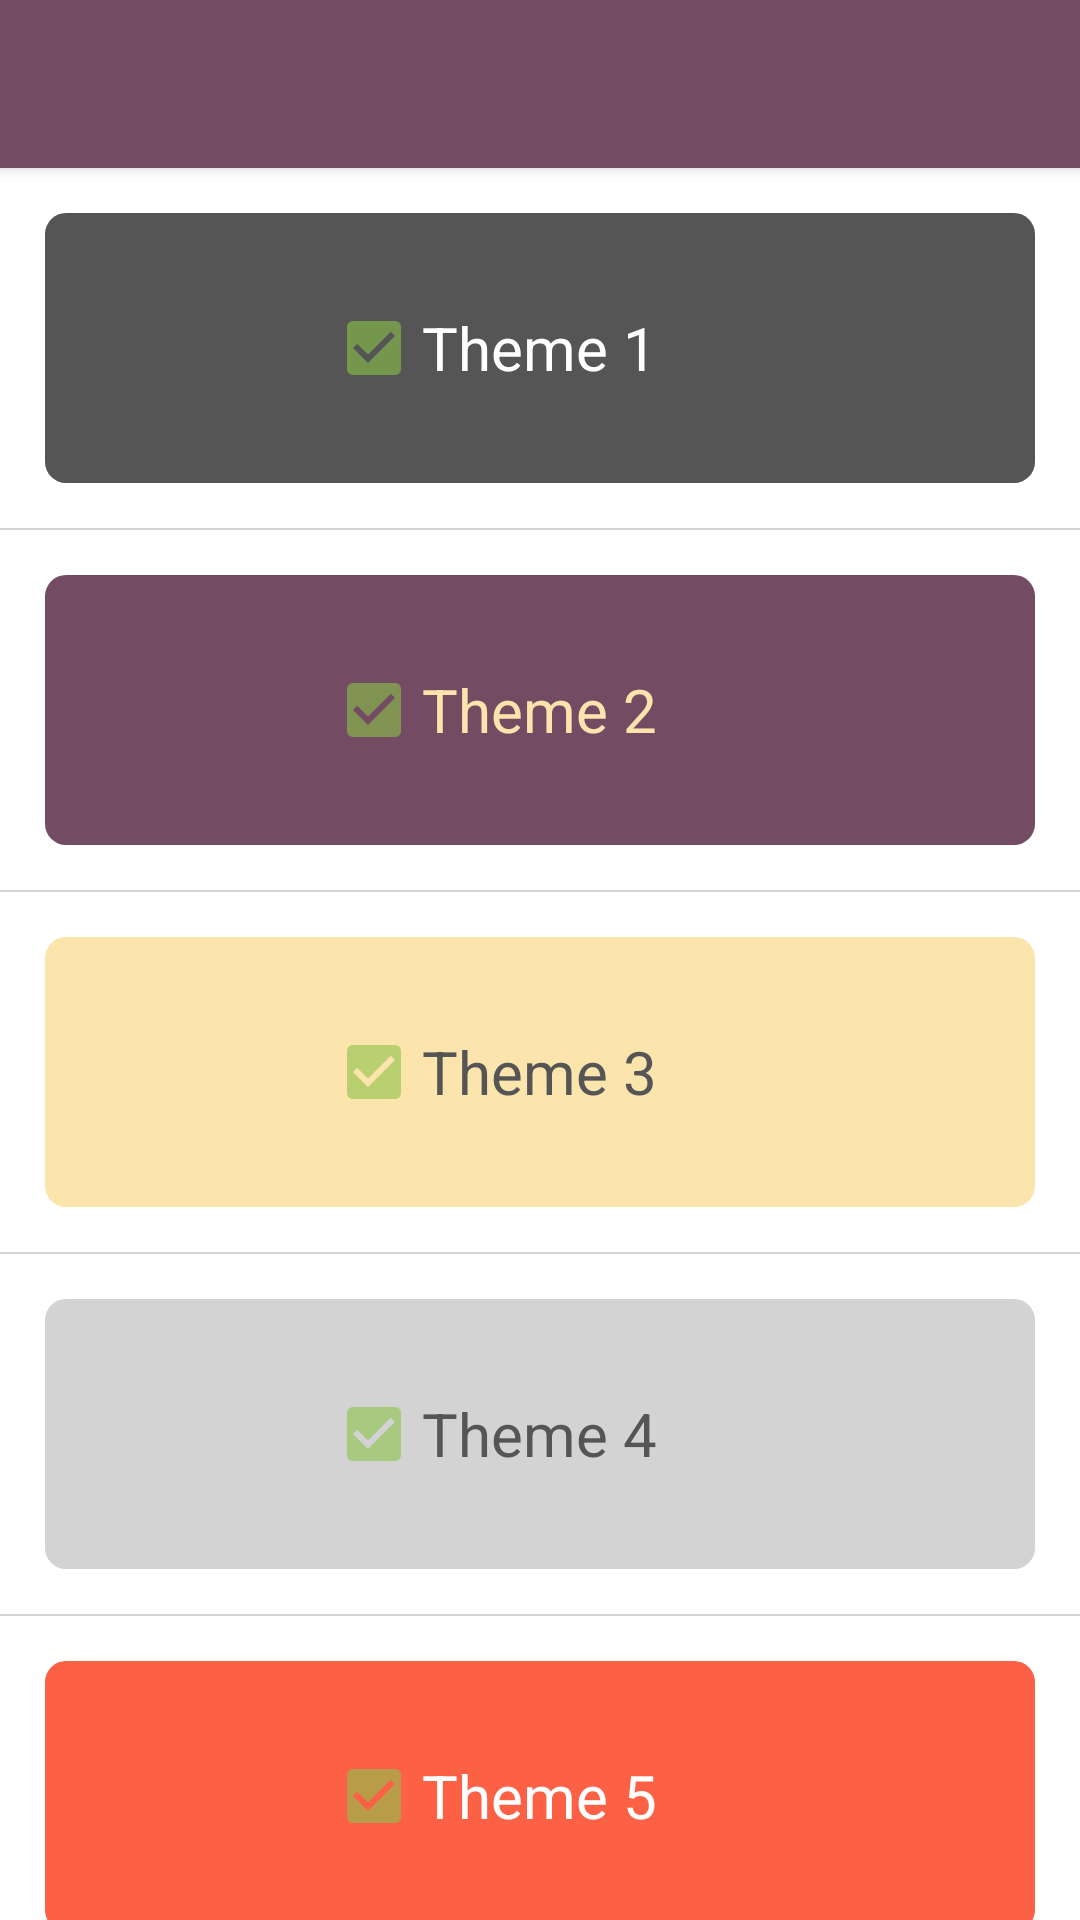

Named icons in this screenshot (1080px x 1920px) and their centers, (x=x, y=y):
select theme checkmark: (x=374, y=348), (x=374, y=710), (x=374, y=1072), (x=374, y=1434), (x=374, y=1796)
